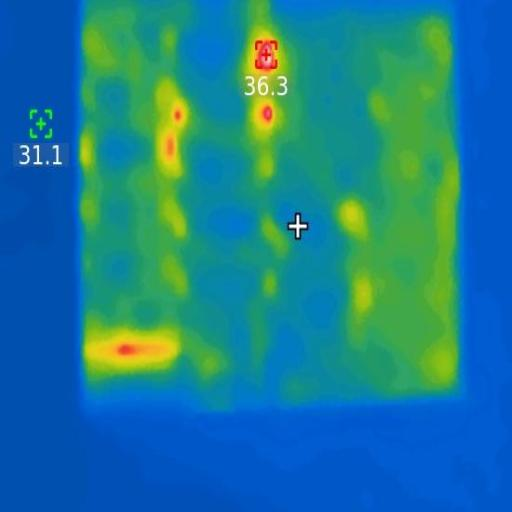hotspot: (255, 40, 280, 70), (118, 342, 144, 357), (262, 102, 272, 128), (174, 106, 183, 126)
